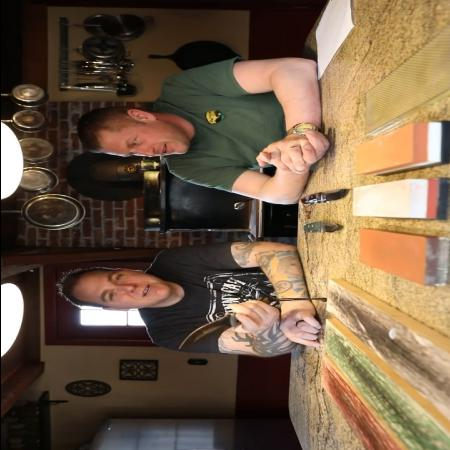long weapon: (164, 300, 274, 354)
